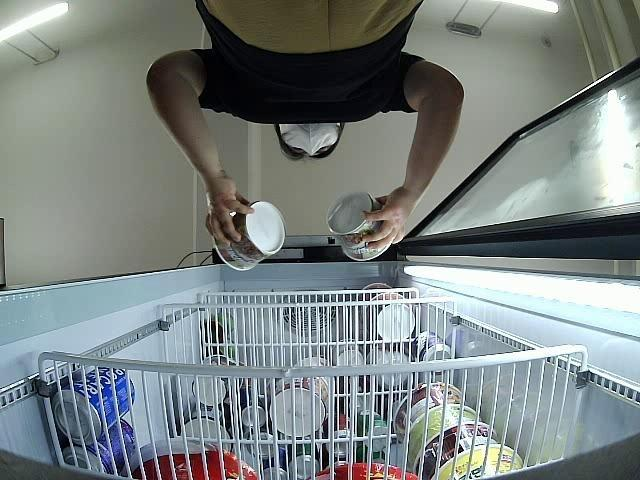03_chapagetti_L: (212, 201, 287, 272), (327, 190, 392, 262)
